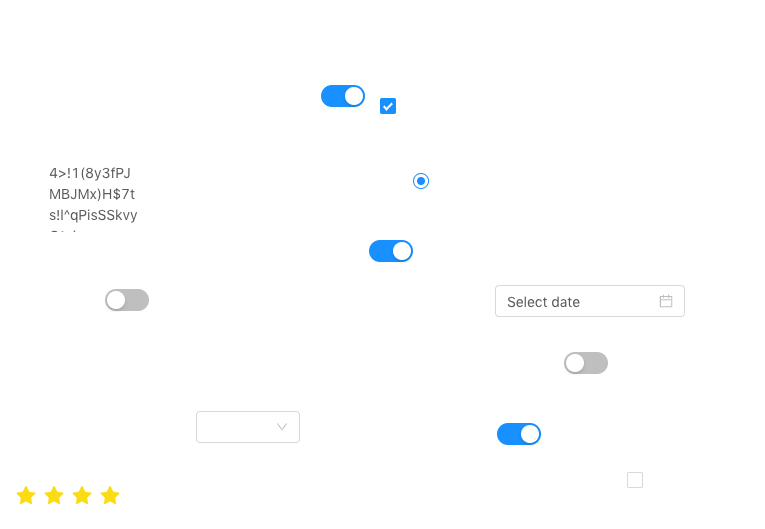Checkbox: (380, 95, 396, 116), (627, 469, 643, 490)
DatePicker: (495, 285, 685, 317)
Radio: (413, 170, 429, 190)
Rate: (16, 479, 136, 511)
Select: (196, 411, 300, 443)
Switch: (497, 422, 541, 446), (369, 239, 413, 263), (564, 351, 608, 375), (105, 288, 149, 312), (321, 84, 365, 108)
Text: (49, 162, 141, 232)
